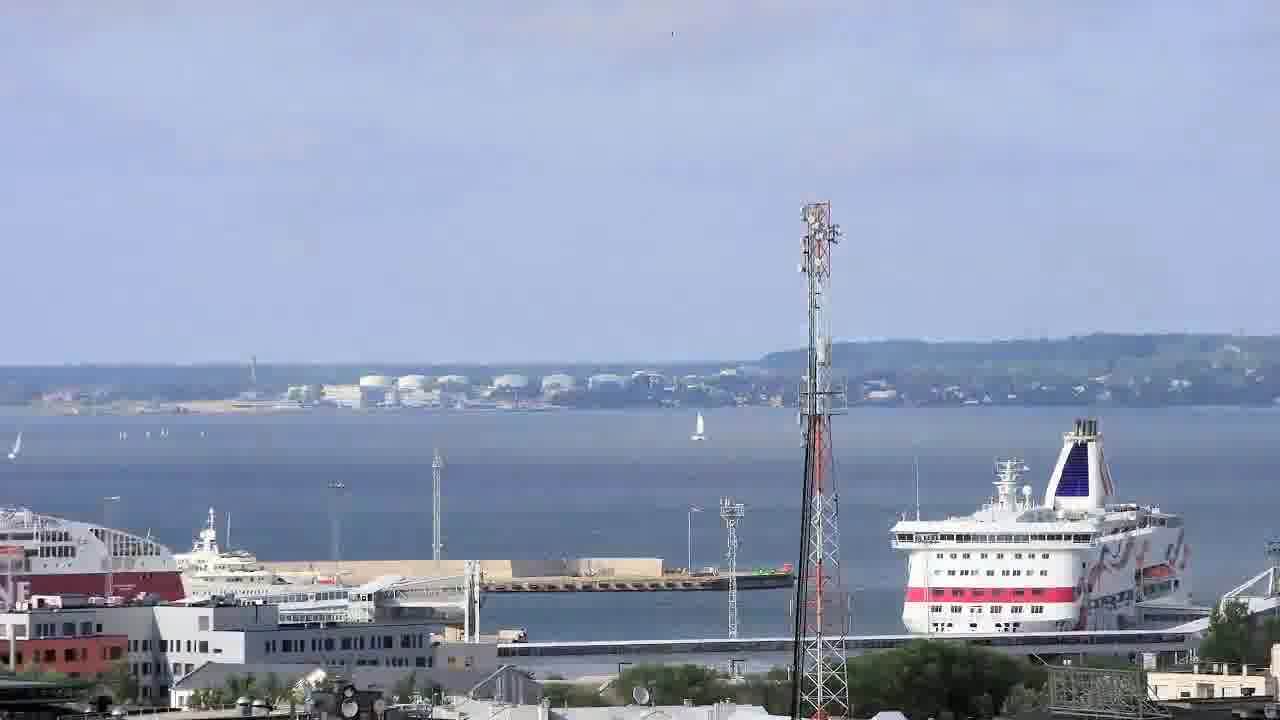type-2: (679, 397, 732, 454)
type-3: (868, 415, 1225, 638), (1, 486, 184, 625), (84, 537, 359, 610)
